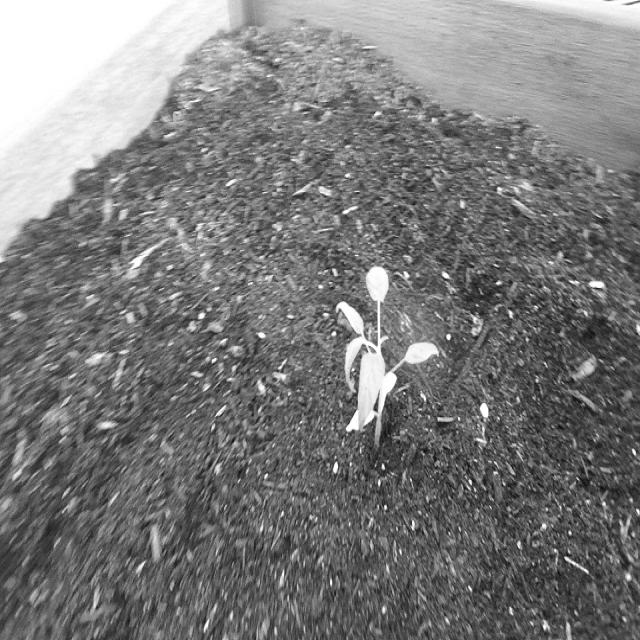Healthy: (334, 264, 440, 456)
